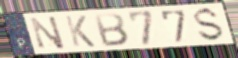7: (125, 9, 155, 47), (159, 8, 188, 44)
B: (93, 12, 131, 48)
K: (63, 14, 97, 48)
N: (28, 15, 67, 50)
S: (193, 6, 226, 43)
